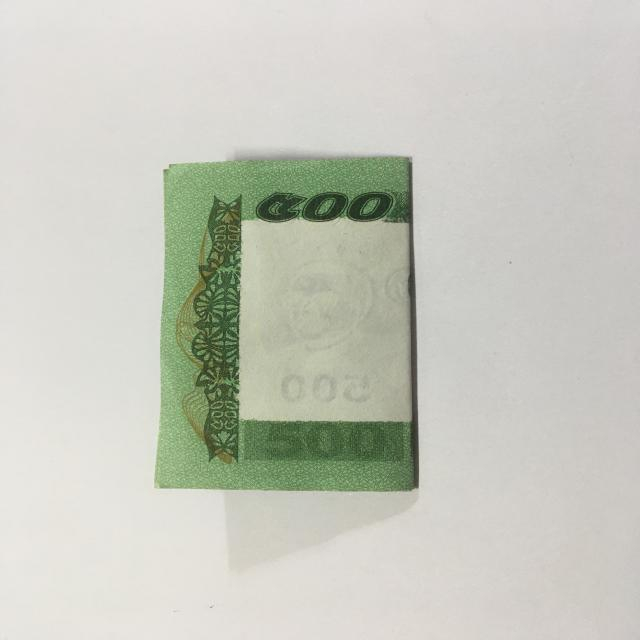Taka: (149, 149, 431, 502)
